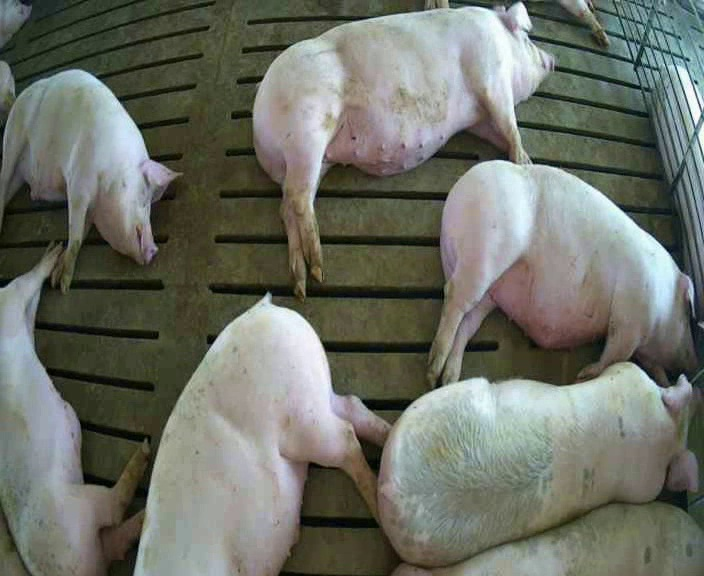pig: (254, 3, 553, 297), (135, 294, 389, 573), (378, 362, 701, 566), (428, 160, 694, 385), (0, 70, 178, 292), (393, 502, 703, 574)
